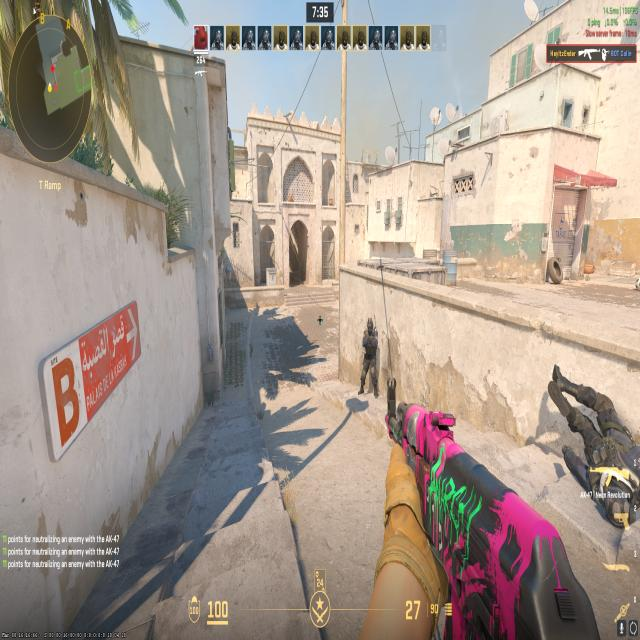ct: (359, 315, 380, 398)
